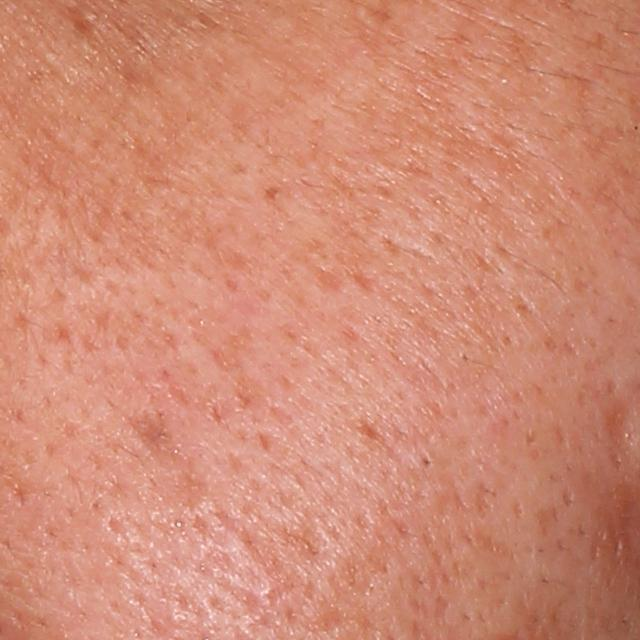atrophic_scar: (236, 529, 304, 609), (305, 580, 362, 637), (471, 478, 496, 522), (560, 481, 576, 508)
comedo: (414, 450, 439, 476)
